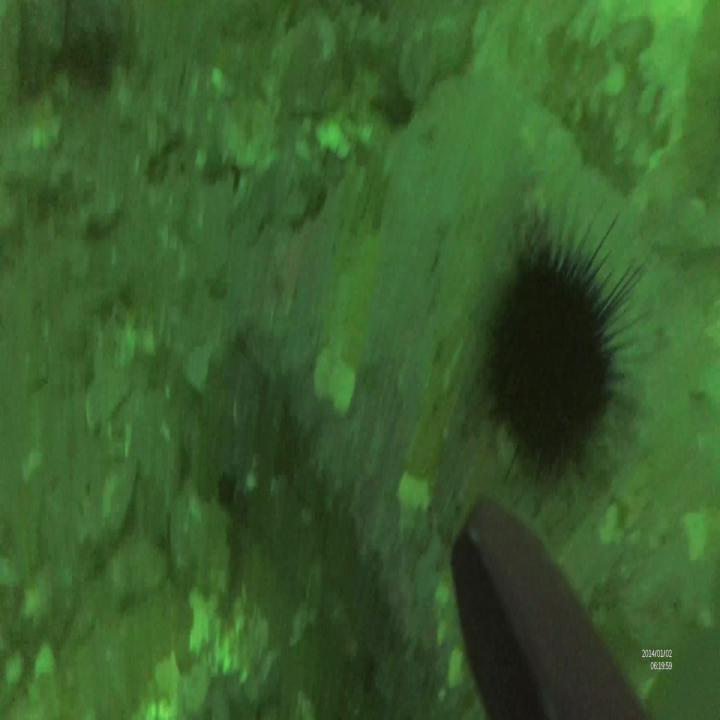echinus: (491, 202, 647, 488)
